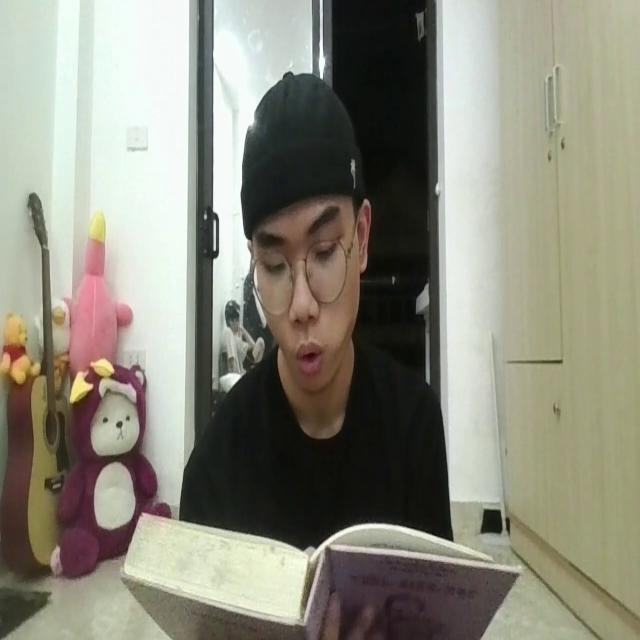book: (119, 498, 525, 640)
student: (177, 69, 465, 542)
